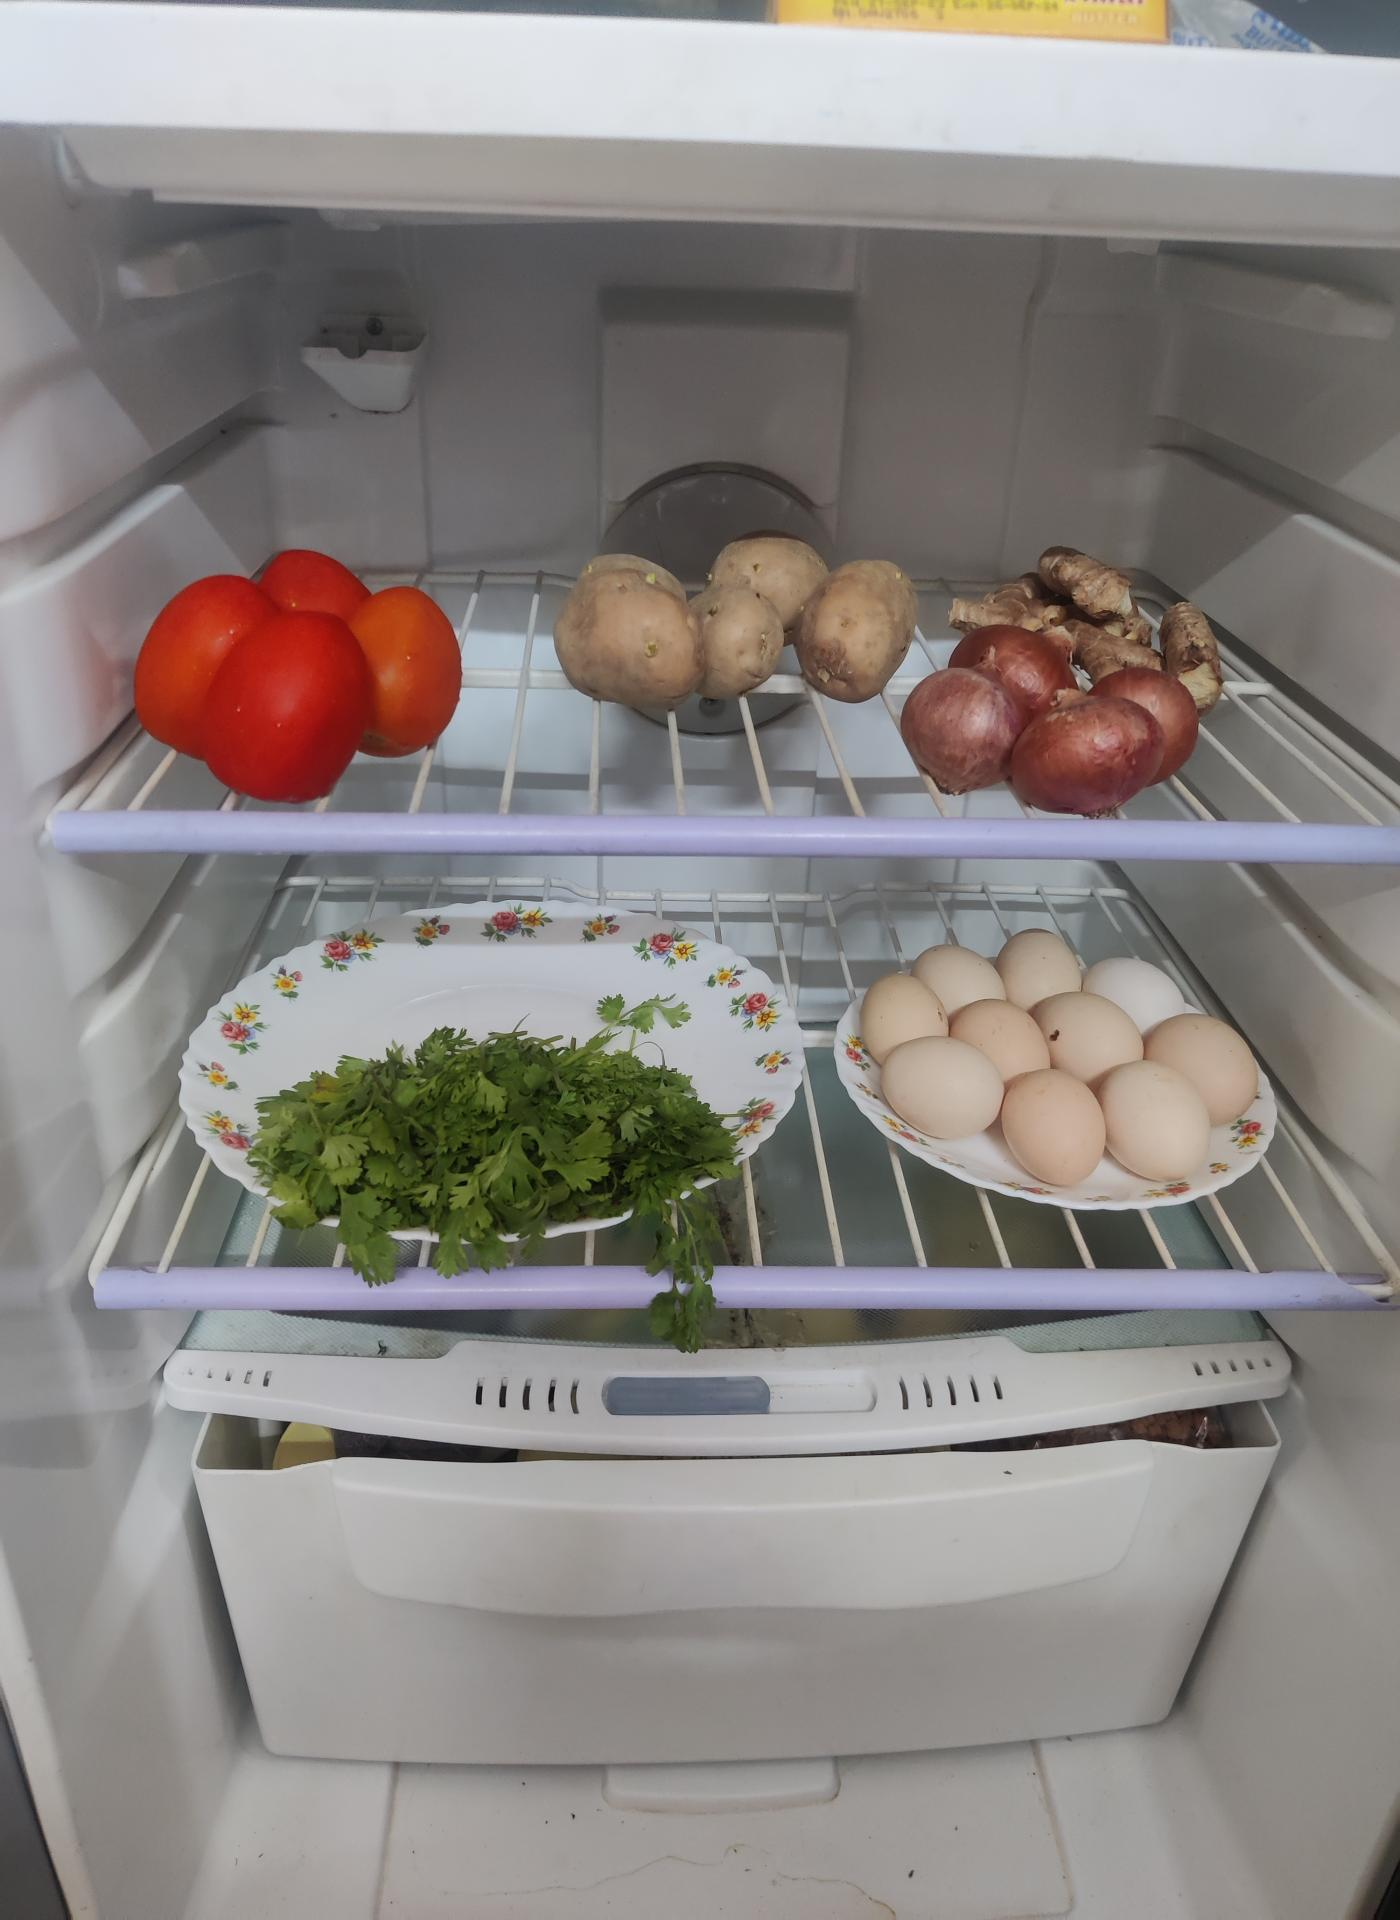coriander: (246, 1023, 742, 1258)
egg: (874, 939, 1275, 1210)
ginger: (986, 544, 1236, 672)
onion: (909, 637, 1197, 811)
potato: (558, 531, 917, 724)
tomato: (131, 541, 464, 795)
